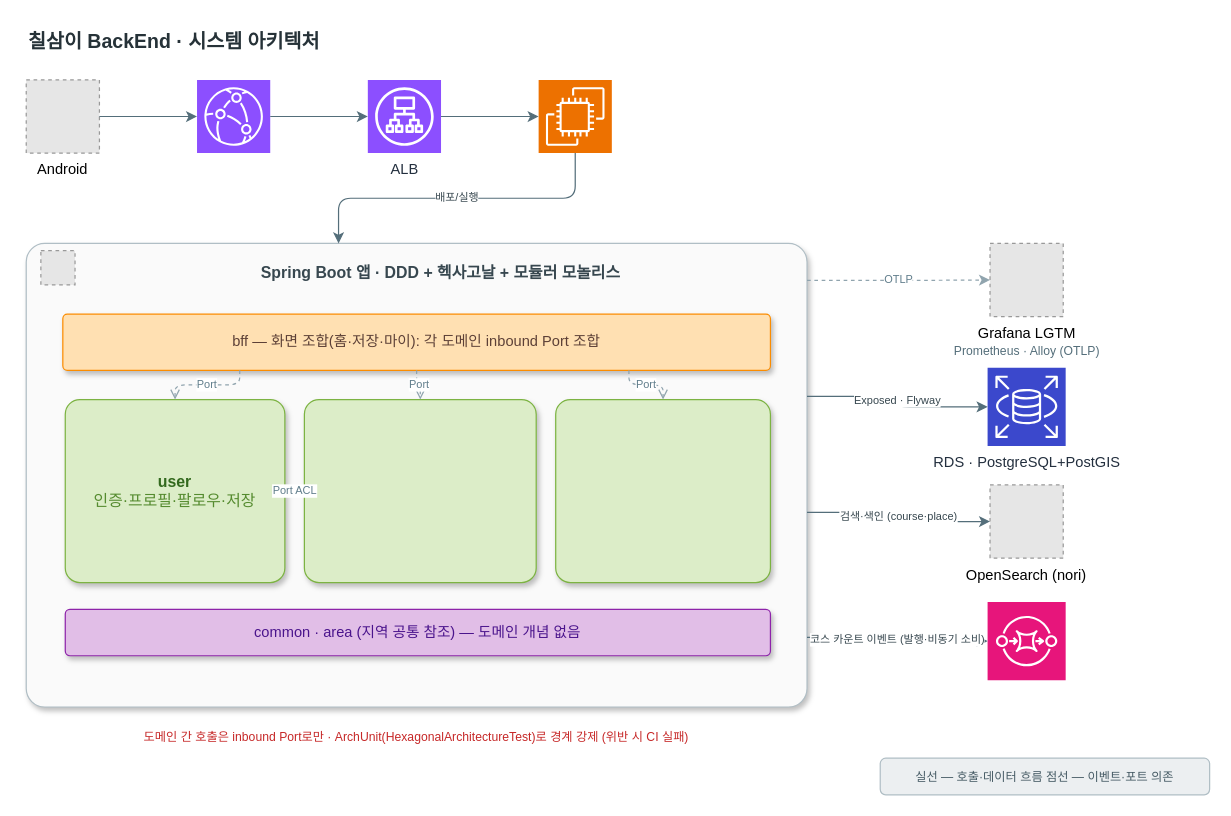
Image size: 1231x816. Some labels were removed from this diagram. Grey dashed boxes stand in for pictures. Here are the shapes that lost their labels. From the top down, the centre of each, then its label:
At (x=233, y=116): "CloudFront".
At (x=574, y=116): "EC2 (ASG)".
At (x=421, y=492): "course 생성·검색·리뷰·좋아요·플랜".
At (x=664, y=492): "place 검색·리뷰".
At (x=1026, y=640): "Amazon SQS".
